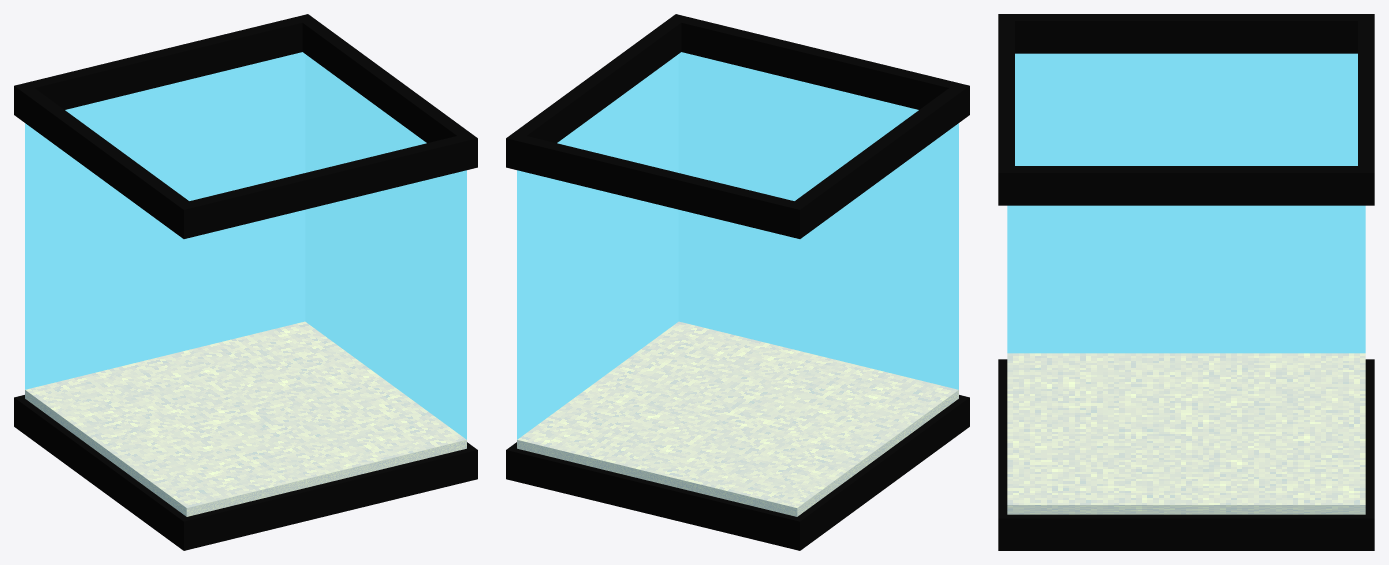
The model's file is tank.glb.
3 renders of one model, left to right at view 1: azimuth 30°, elevation 25°; view 2: azimuth 150°, elevation 25°; view 3: azimuth 270°, elevation 25°, orthographic. The views are drawn at different scales.
Visible parts, largest first — view 1: Cube, Cube.003, Cube.002, Cube.001; view 2: Cube, Cube.003, Cube.002, Cube.001; view 3: Cube, Cube.003, Cube.002, Cube.001.
Boxes of the visible parts, left/top/right/bottom form: Cube: left=25, top=52, right=466, bottom=439; Cube.003: left=25, top=321, right=466, bottom=516; Cube.002: left=14, top=14, right=477, bottom=238; Cube.001: left=14, top=395, right=477, bottom=550; Cube: left=517, top=52, right=958, bottom=439; Cube.003: left=517, top=321, right=958, bottom=516; Cube.002: left=506, top=14, right=969, bottom=238; Cube.001: left=506, top=395, right=969, bottom=550; Cube: left=1007, top=53, right=1365, bottom=353; Cube.003: left=1007, top=353, right=1365, bottom=514; Cube.002: left=998, top=14, right=1374, bottom=205; Cube.001: left=998, top=359, right=1374, bottom=550.
Bounding box in the file's own units: 21 × 23.27 × 21.
Materials: 3 (1 with a texture image).
